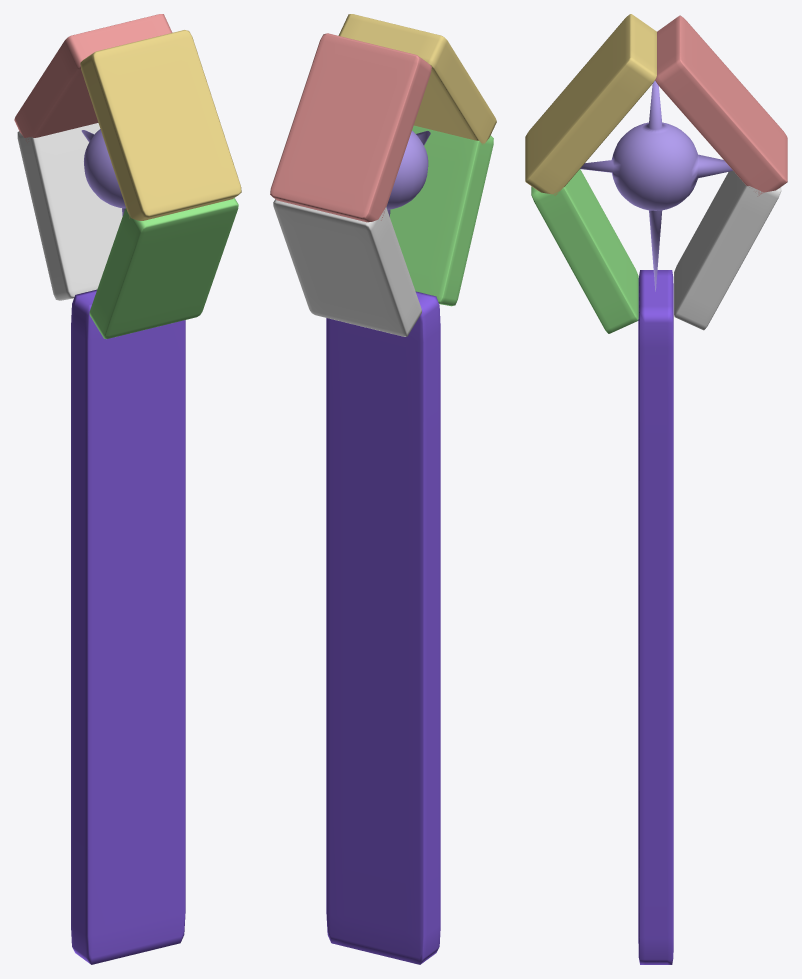
File: FAROLAA.fbx
The picture shows the model from 3 angles, left to right: view 1: azimuth 30°, elevation 25°; view 2: azimuth 150°, elevation 25°; view 3: azimuth 270°, elevation 25°; orthographic projection.
Visible parts, largest first — view 1: TIMON, ARRIBA_DERECHA, ABAJO_DERECHA, ABAJO_IZQUIERDA, ARRIBA_IZQUIERDA, LAMPARA; view 2: TIMON, ARRIBA_IZQUIERDA, ABAJO_IZQUIERDA, ABAJO_DERECHA, ARRIBA_DERECHA, LAMPARA; view 3: TIMON, ARRIBA_DERECHA, ARRIBA_IZQUIERDA, ABAJO_DERECHA, ABAJO_IZQUIERDA, LAMPARA.
Boxes of the visible parts, left/top/right/bottom form: TIMON: left=71, top=289, right=185, bottom=964; ARRIBA_DERECHA: left=80, top=30, right=241, bottom=220; ABAJO_DERECHA: left=89, top=198, right=238, bottom=338; ABAJO_IZQUIERDA: left=17, top=123, right=122, bottom=300; ARRIBA_IZQUIERDA: left=14, top=14, right=172, bottom=142; LAMPARA: left=81, top=129, right=125, bottom=215; TIMON: left=326, top=291, right=440, bottom=964; ARRIBA_IZQUIERDA: left=270, top=33, right=431, bottom=222; ABAJO_IZQUIERDA: left=273, top=199, right=421, bottom=336; ABAJO_DERECHA: left=390, top=125, right=493, bottom=306; ARRIBA_DERECHA: left=338, top=14, right=496, bottom=144; LAMPARA: left=386, top=131, right=430, bottom=216; TIMON: left=638, top=270, right=673, bottom=964; ARRIBA_DERECHA: left=525, top=14, right=656, bottom=195; ARRIBA_IZQUIERDA: left=655, top=15, right=787, bottom=196; ABAJO_DERECHA: left=531, top=169, right=638, bottom=333; ABAJO_IZQUIERDA: left=674, top=171, right=781, bottom=330; LAMPARA: left=580, top=81, right=732, bottom=291.
Bounding box in the file's own units: 2.53 × 22.5 × 5.9.
